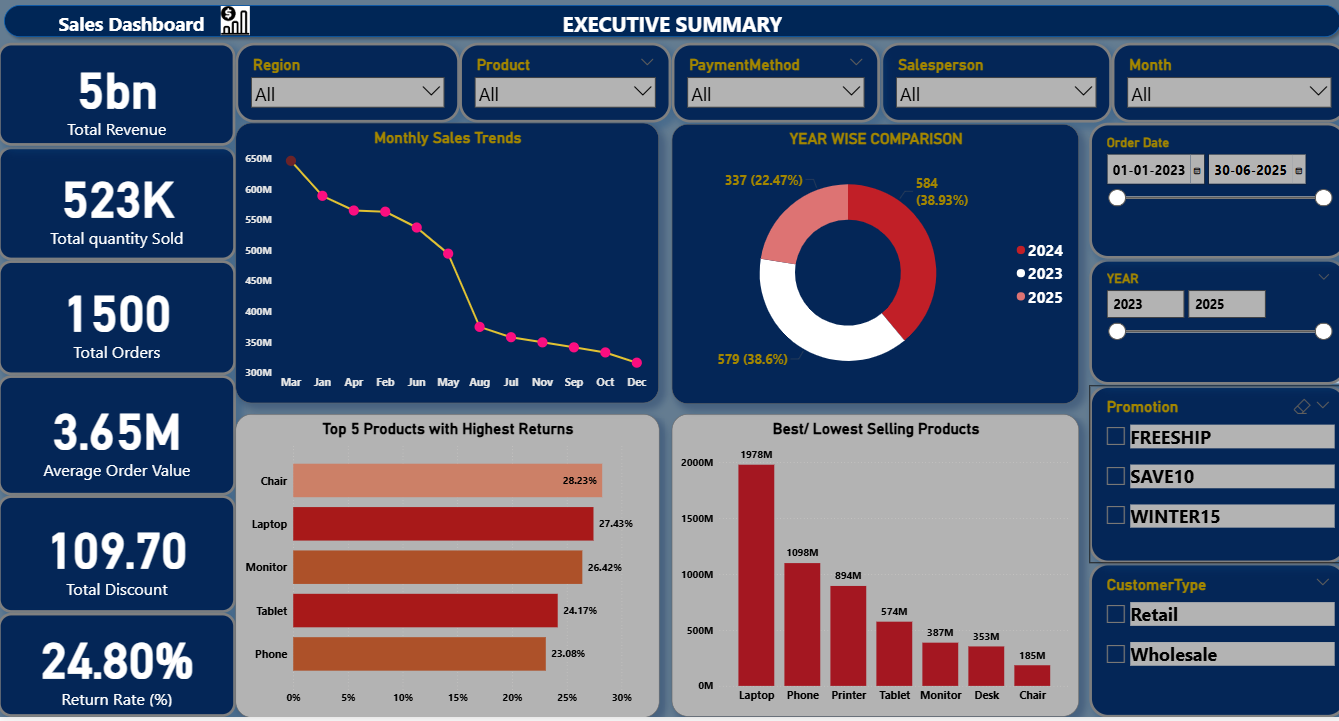

The page's visual inventory and layout, read from the dashboard file:
{"tool":"powerbi","page":{"name":" Executive Summary","canvas":[2000,1065],"ordinal":0},"visuals":[{"type":"shape","box":[0,0,2000.4,65.4],"z":0},{"type":"card","fields":{"Values":["Sum(Sales Dump.Quantity)"]},"box":[1382.9,1248.9,659.3,396.7],"z":1000},{"type":"card","fields":{"Values":["Sum(Sales Dump.Quantity)"]},"box":[0,218,352.5,169],"z":2000},{"type":"card","fields":{"Values":["Sales Dump.Total Orders"]},"box":[0,387,352.5,170.8],"z":3000},{"type":"card","fields":{"Values":["Sum(Sales Dump.TotalPrice)"]},"box":[0,65.3,352.1,152.5],"z":4000},{"type":"card","fields":{"Values":["Sales Dump.Average_Order_Value"]},"box":[0,557.8,352.5,178.1],"z":5000},{"type":"card","fields":{"Values":["Sum(Sales Dump.Discount)"]},"box":[0,735.8,352.5,174.4],"z":6000},{"type":"card","fields":{"Values":["Sales Dump.Return_Rate"]},"box":[0,910.2,352.5,154.4],"z":7000},{"type":"slicer","fields":{"Values":["Sales Dump.Region"]},"box":[352.5,65.4,332.5,118.1],"z":8000},{"type":"slicer","fields":{"Values":["Sales Dump.Product"]},"box":[685,65.4,314.3,118.1],"z":9000},{"type":"slicer","fields":{"Values":["Sales Dump.CustomerType"]},"box":[1618.8,836.2,381.6,229.4],"z":10000},{"type":"slicer","fields":{"Values":["Sales Dump.Salesperson"]},"box":[1308.1,65.4,343.4,118.1],"z":11000},{"type":"slicer","fields":{"Values":["Sales Dump.PaymentMethod"]},"box":[999.3,65.4,308.9,118.1],"z":12000},{"type":"slicer","fields":{"Values":["Sales Dump.Promotion"]},"box":[1618.8,572.5,381.6,263.7],"z":13000},{"type":"slicer","fields":{"Values":["Sales Dump.Order Date.Variation.Date Hierarchy.Month"]},"box":[1651.5,65.4,348.8,118.1],"z":14000},{"type":"slicer","fields":{"Values":["Sales Dump.YEAR"]},"box":[1618.8,385.9,381.6,186.5],"z":15000},{"type":"slicer","fields":{"Values":["Sales Dump.Order Date"]},"box":[1618.8,184.4,381.6,201.5],"z":16000},{"type":"clusteredColumnChart","title":" Best/ Lowest Selling Products","fields":{"Category":["Sales Dump.Product"],"Y":["Sales Dump.Total price"]},"box":[999.3,615.5,604.4,448.6],"z":17000},{"type":"barChart","title":"Top 5 Products with Highest Returns","fields":{"Category":["Sales Dump.Product"],"Y":["Sales Dump.Return_Rate"]},"box":[352.5,615.9,628.6,450.6],"z":18000},{"type":"lineChart","title":"Monthly Sales Trends","fields":{"Category":["Sales Dump.MONTH"],"Y":["Sales Dump.Total price"]},"box":[351.6,184.4,628.2,416],"z":19000},{"type":"donutChart","title":" YEAR WISE COMPARISON","fields":{"Category":["Sales Dump.YEAR"],"Y":["Sales Dump.Total Orders"]},"box":[999.3,185.4,604.4,415.3],"z":20000},{"type":"actionButton","box":[41.8,12.7,310.7,40],"z":21000},{"type":"image","box":[321.6,5.5,61.8,52.7],"z":22000}]}

Visuals, with their boxes in screenshot pixels (x1, y1, x2, y2), scaled from the page's 2000x1065 canvas onto the 1339x721 screenshot:
shape: crop(0, 0, 1338, 44)
card - Sum(Sales Dump.Quantity): crop(0, 148, 236, 262)
card - Sales Dump.Total Orders: crop(0, 262, 236, 378)
card - Sum(Sales Dump.TotalPrice): crop(0, 44, 236, 147)
card - Sales Dump.Average_Order_Value: crop(0, 378, 236, 498)
card - Sum(Sales Dump.Discount): crop(0, 498, 236, 616)
card - Sales Dump.Return_Rate: crop(0, 616, 236, 720)
slicer - Sales Dump.Region: crop(236, 44, 459, 124)
slicer - Sales Dump.Product: crop(459, 44, 669, 124)
slicer - Sales Dump.CustomerType: crop(1084, 566, 1338, 720)
slicer - Sales Dump.Salesperson: crop(876, 44, 1106, 124)
slicer - Sales Dump.PaymentMethod: crop(669, 44, 876, 124)
slicer - Sales Dump.Promotion: crop(1084, 388, 1338, 566)
slicer - Sales Dump.Order Date.Variation.Date Hierarchy.Month: crop(1106, 44, 1338, 124)
slicer - Sales Dump.YEAR: crop(1084, 261, 1338, 388)
slicer - Sales Dump.Order Date: crop(1084, 125, 1338, 261)
" Best/ Lowest Selling Products" clusteredColumnChart: crop(669, 417, 1074, 720)
"Top 5 Products with Highest Returns" barChart: crop(236, 417, 657, 720)
"Monthly Sales Trends" lineChart: crop(235, 125, 656, 406)
" YEAR WISE COMPARISON" donutChart: crop(669, 126, 1074, 407)
actionButton: crop(28, 9, 236, 36)
image: crop(215, 4, 257, 39)
